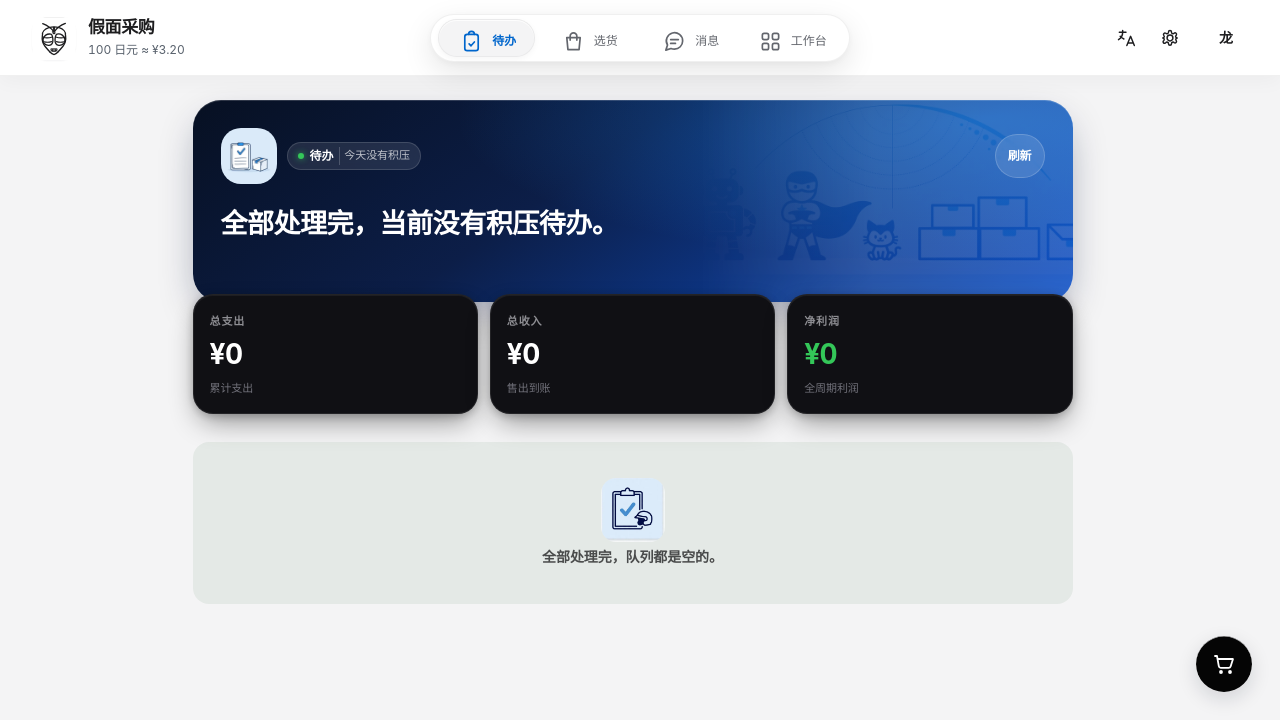
Dashboard load error states › shows a retry in the favorites view when the collection load fails
Click the button with aria-label "选货". click: (589, 41)
box: [538,19,640,63]
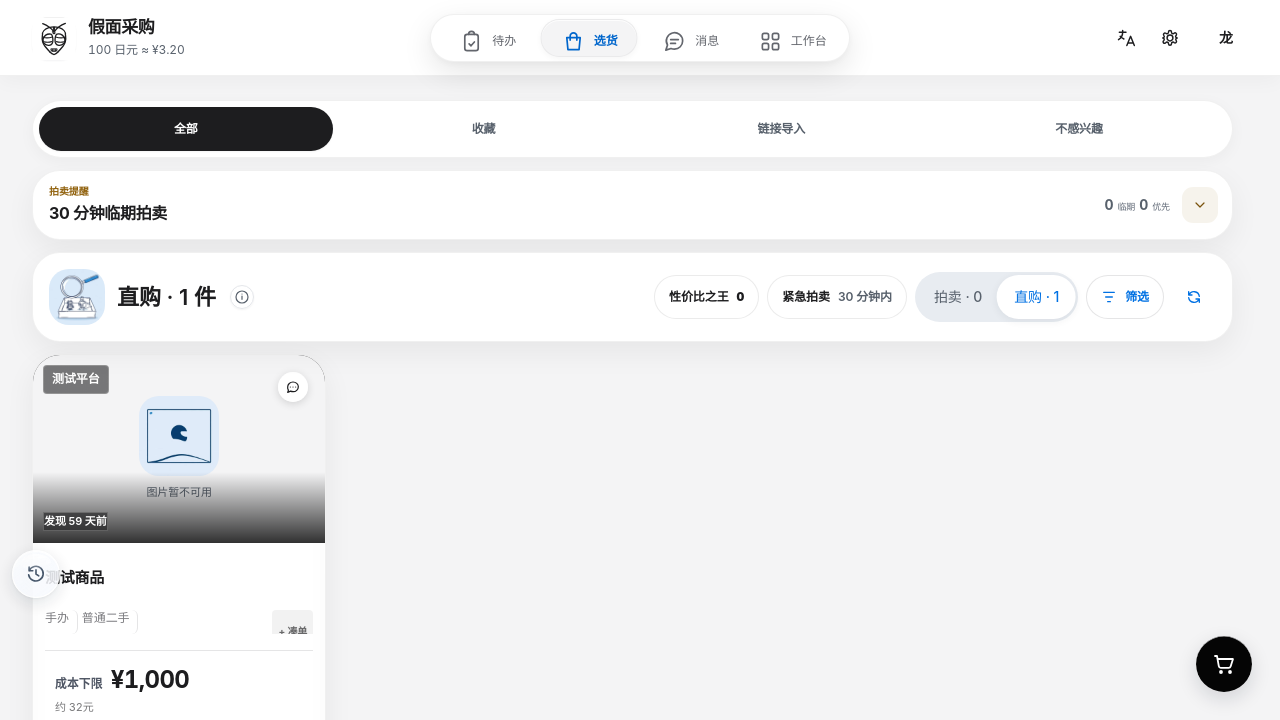
Result: the element named "在售商品类型" is shown at [915,272,1078,322]
Result: the tab "收藏" is shown
Click the tab "收藏". click: (484, 129)
box: [337,107,631,151]
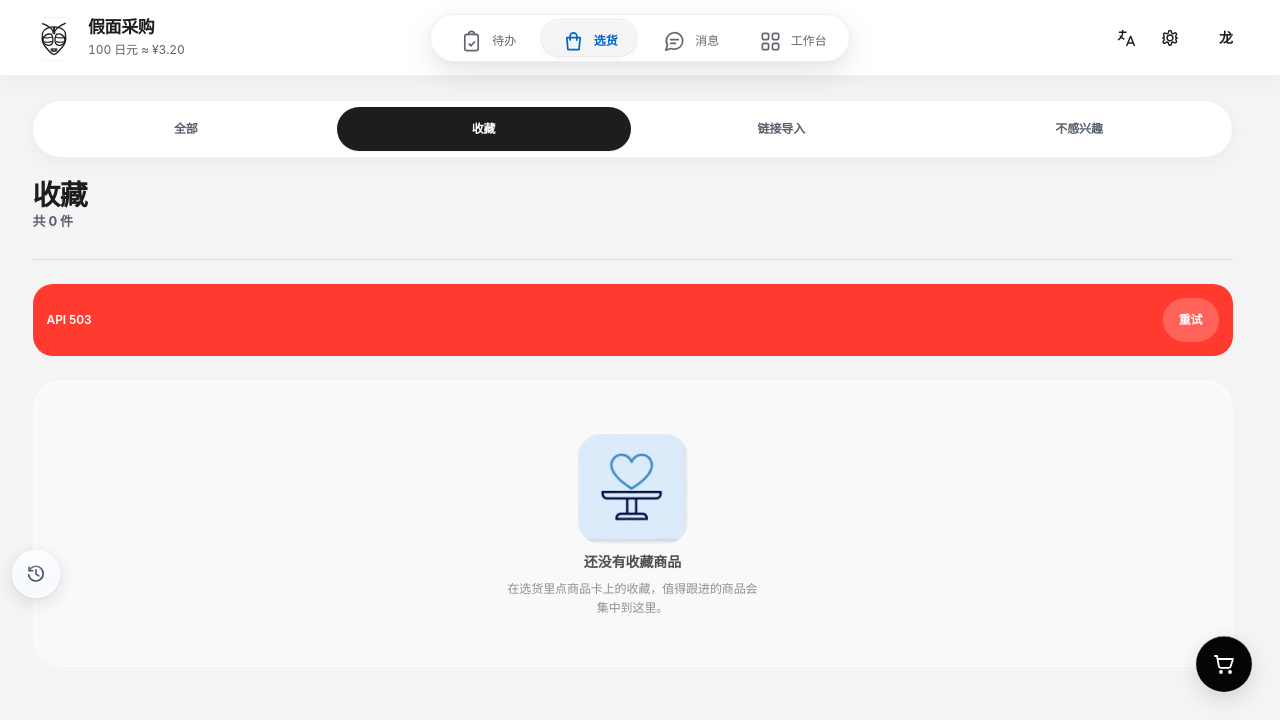
Result: the button with test id "retry-favorites" is shown
Click the button with test id "retry-favorites". click: (1191, 320)
box: [1163,298,1218,342]
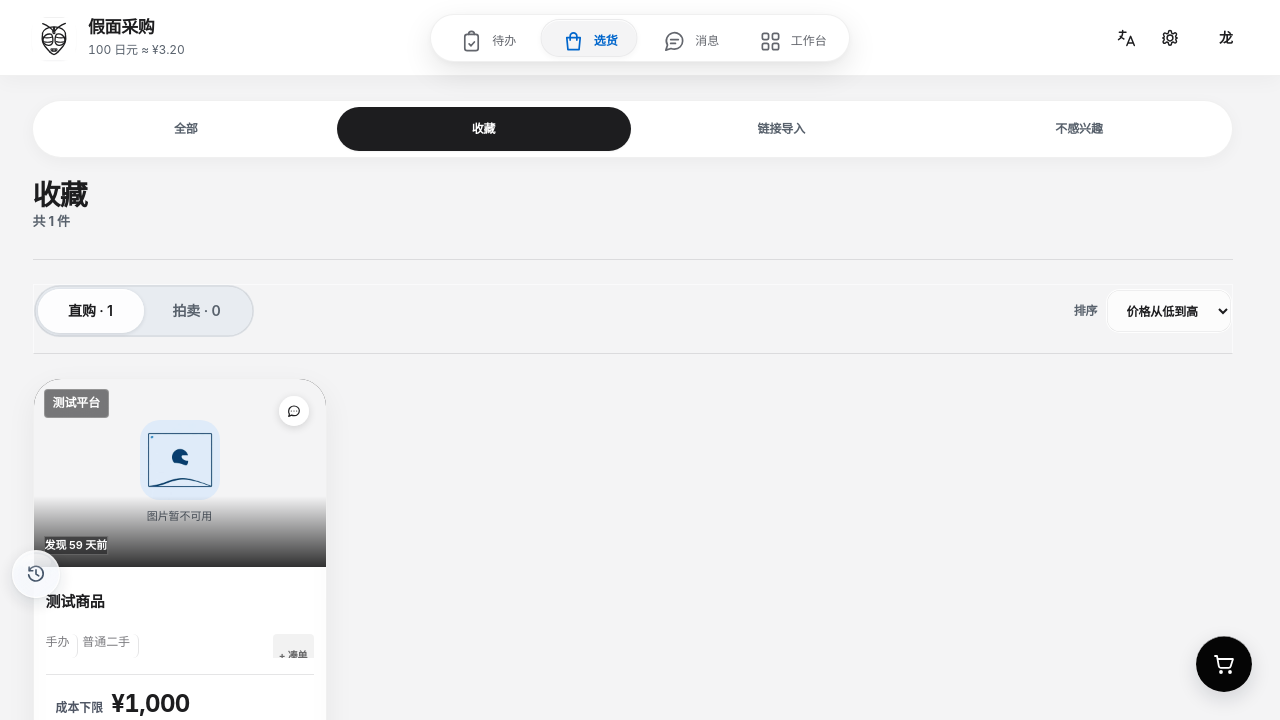
Result: the text "测试商品" is shown at [46,578,314,626]
Result: the button with test id "retry-favorites" is gone
